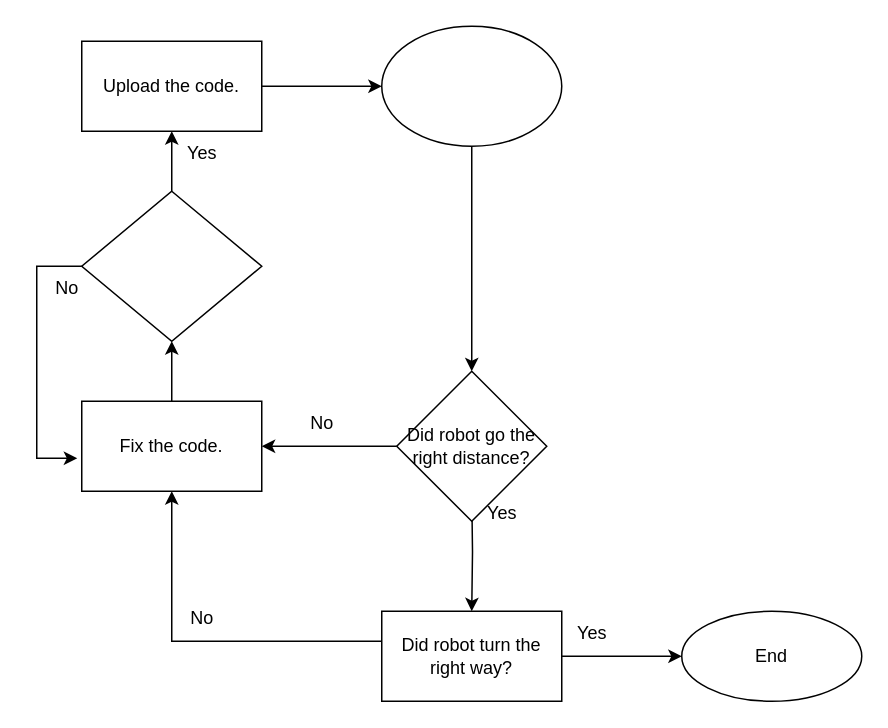
Some shapes in this 888 by 728 pixel diagram are drawn without their labels. The centre of each missing label's shape, as x and y in pixels:
Does the code look like it will work properly?: (x=171, y=265)
Start the robot: (x=471, y=85)
